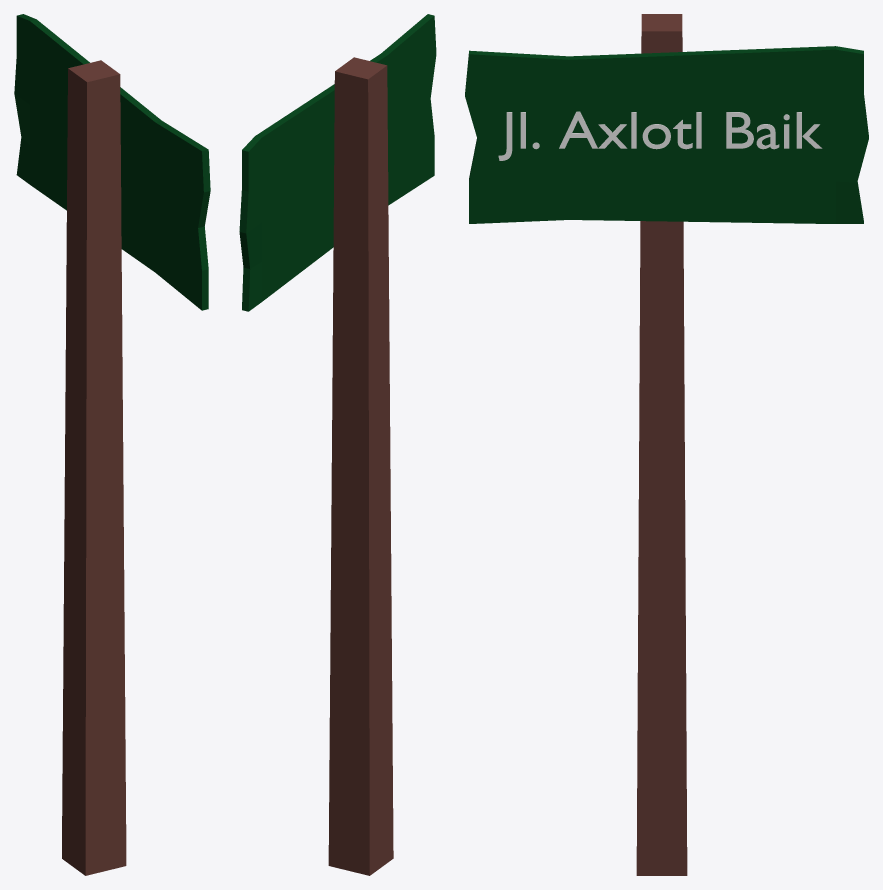
Rendered from PlangJalan-2.fbx.
The picture shows the model from 3 angles, left to right: view 1: azimuth 30°, elevation 25°; view 2: azimuth 150°, elevation 25°; view 3: azimuth 270°, elevation 25°; orthographic projection. The views are drawn at different scales.
Visible parts, largest first — view 1: Cube, Cube.001; view 2: Cube, Cube.001; view 3: Cube.001, Cube, Text.
Boxes of the visible parts, bbox=[...] form: Cube: bbox=[62, 60, 126, 875]; Cube.001: bbox=[14, 14, 210, 310]; Cube: bbox=[328, 57, 393, 875]; Cube.001: bbox=[239, 14, 436, 311]; Cube.001: bbox=[465, 46, 868, 223]; Cube: bbox=[636, 14, 687, 875]; Text: bbox=[498, 111, 822, 160].
Size of the model in its own units: 28.73 by 471 by 205.
